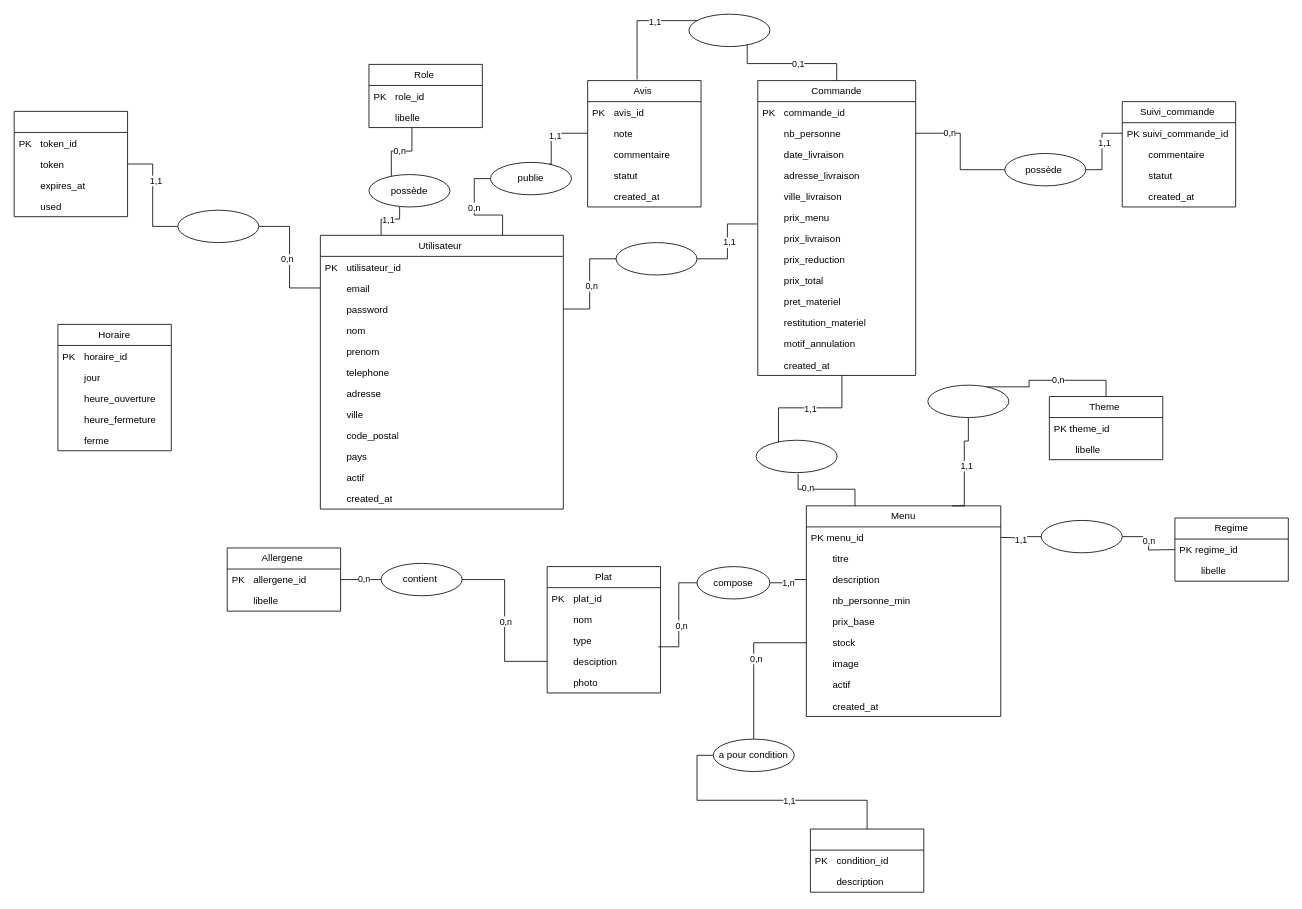
This 1302x909 diagram has some shape labels left out. The box of each missing label's shape, as (x1, y1, x2, y2) in pixels:
adapte a: (1040, 520, 1122, 553)
appartient à: (927, 384, 1009, 418)
concerne: (755, 439, 837, 473)
Condition_menu: (810, 828, 924, 892)
donne lieu à: (688, 13, 770, 47)
passe: (615, 242, 697, 275)
password_reset: (13, 111, 128, 217)
reinitialise: (177, 209, 259, 243)
